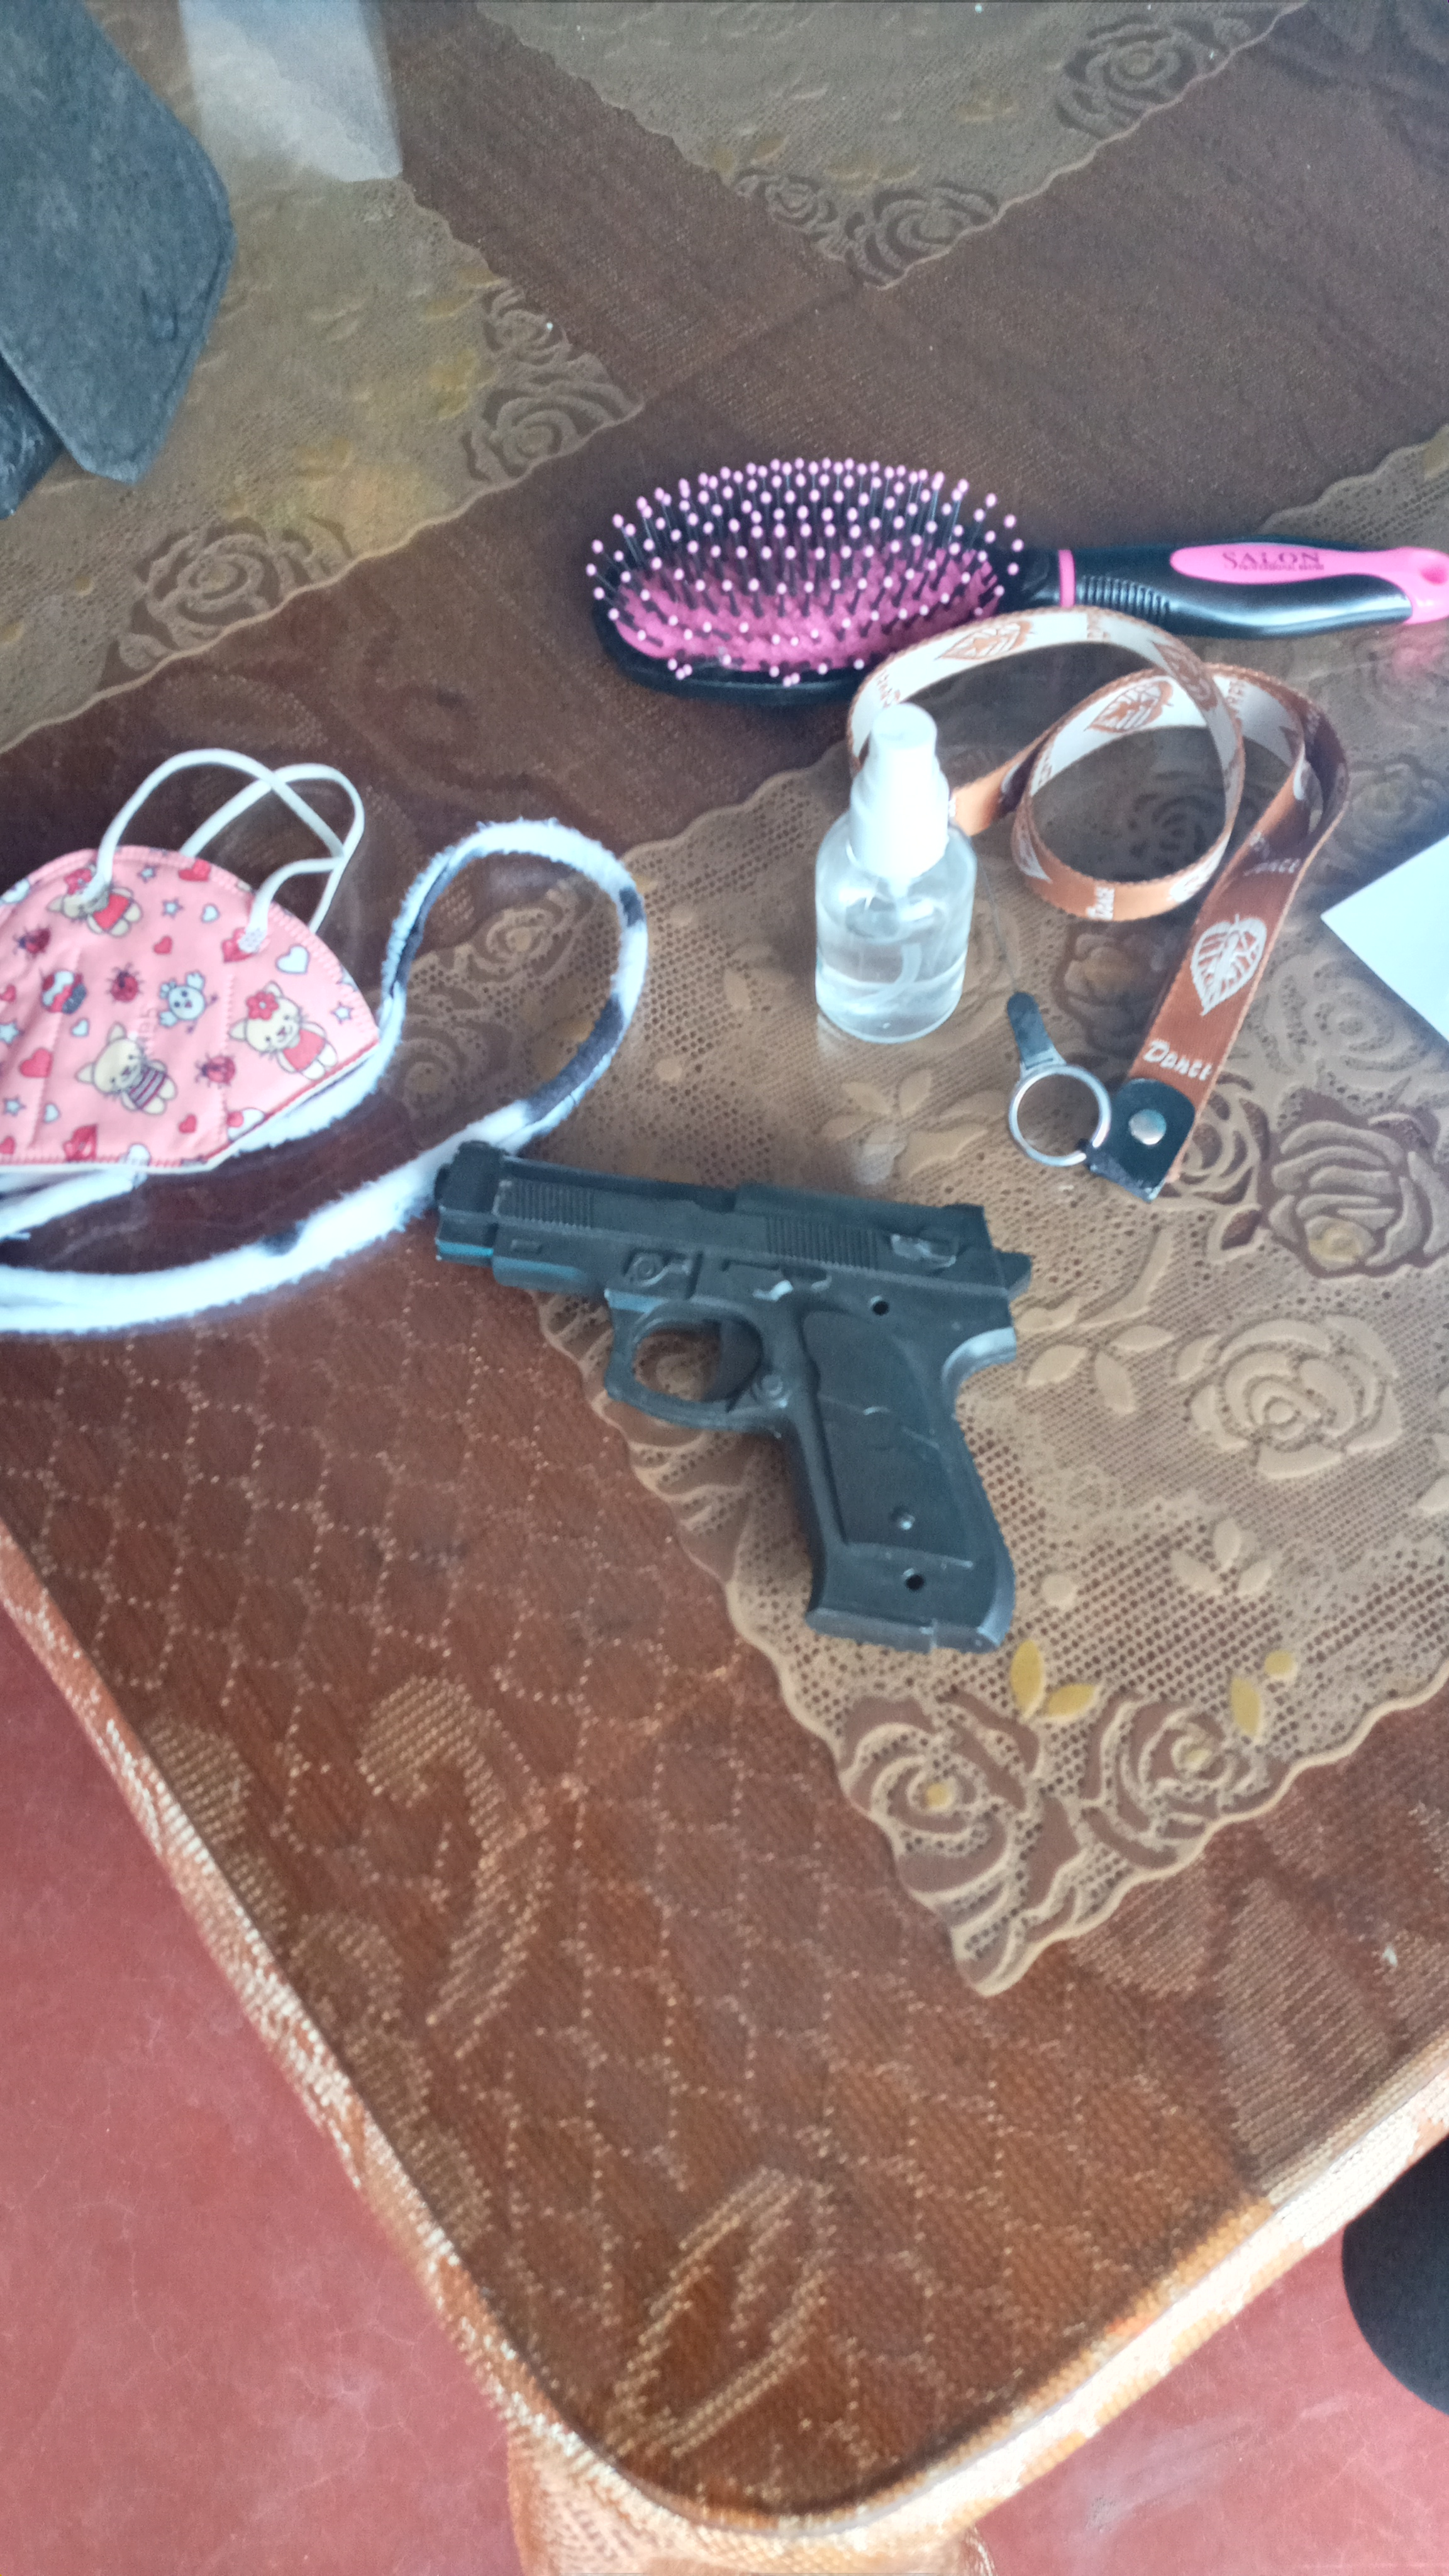Arma: (412, 1146, 1049, 1477)
